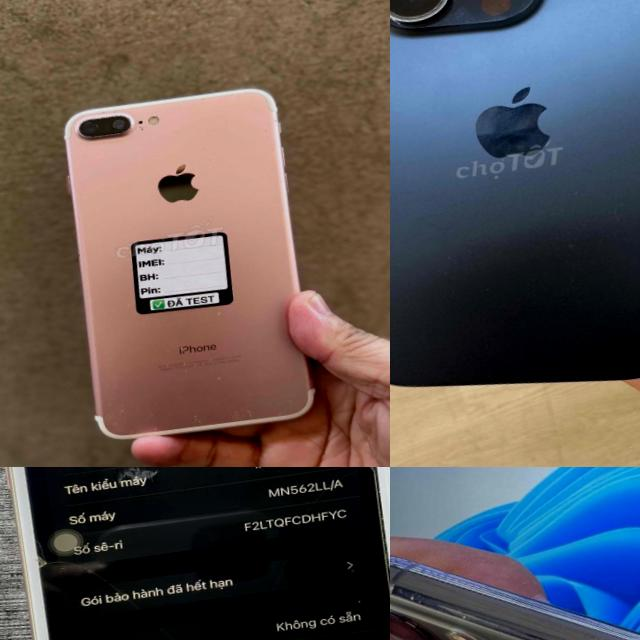gen_11: (390, 494, 640, 640)
gen_15: (390, 0, 640, 421)
gen_7_8: (44, 76, 333, 448), (0, 467, 390, 640)
physical_damage: (50, 550, 118, 600), (112, 588, 156, 628), (149, 619, 188, 640), (32, 539, 50, 571), (365, 467, 379, 474)
scratch: (82, 294, 312, 442), (71, 102, 152, 144), (113, 467, 160, 488)
